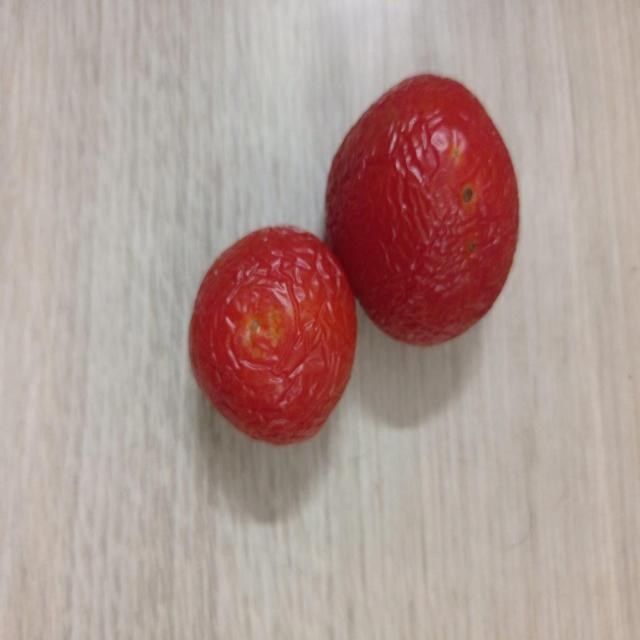overripe: (328, 71, 522, 346), (188, 225, 358, 445)
